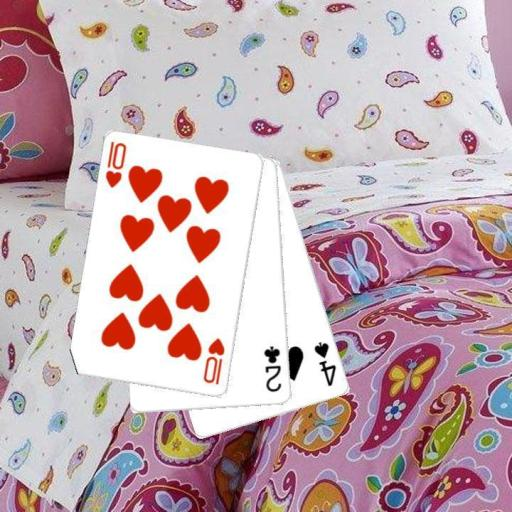card-corner: (200, 335, 227, 386), (102, 139, 129, 190), (311, 338, 338, 388), (261, 343, 284, 394)
